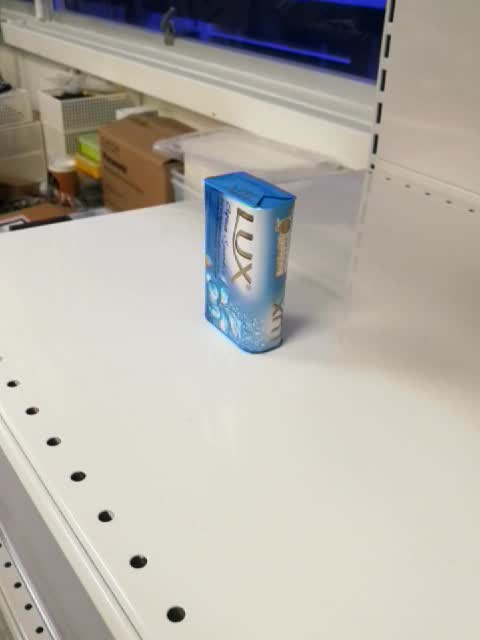soap: (198, 168, 297, 362)
